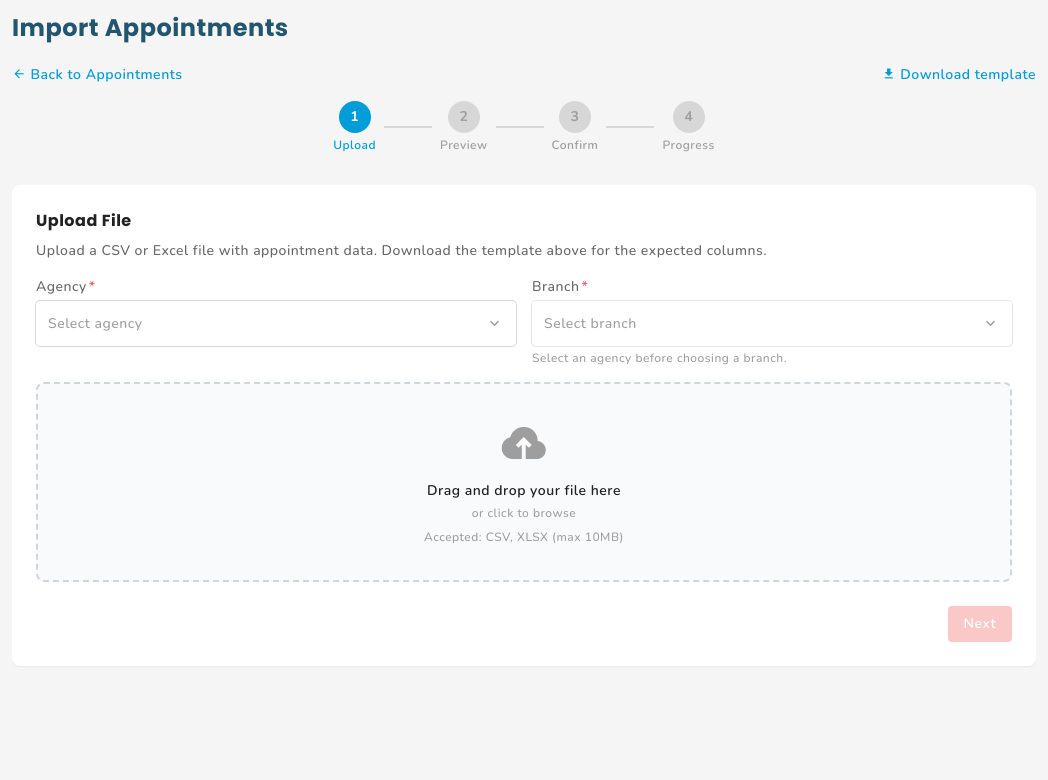
AppointmentImportPage › resets the branch selection when the agency changes
This screenshot has width=1048, height=780.
Click the button labelled "Select agency" at (95, 323), box x1=36 y1=301 x2=516 y2=346
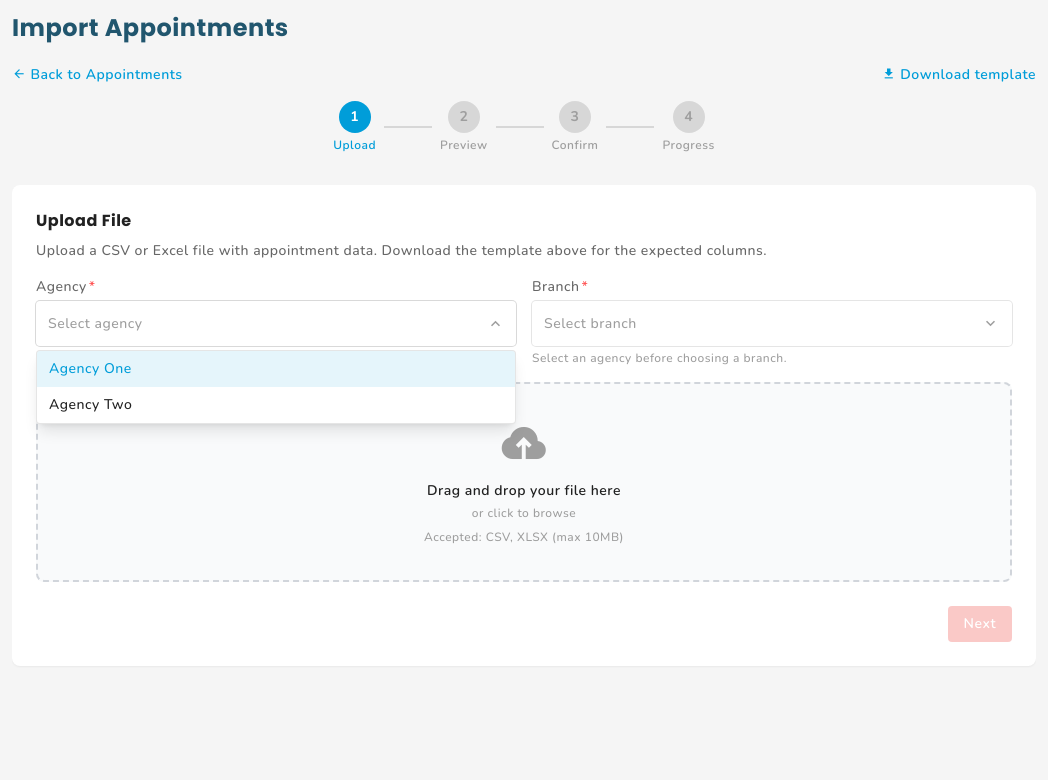
Click the option "Agency One" at (90, 368), box x1=37 y1=351 x2=515 y2=387
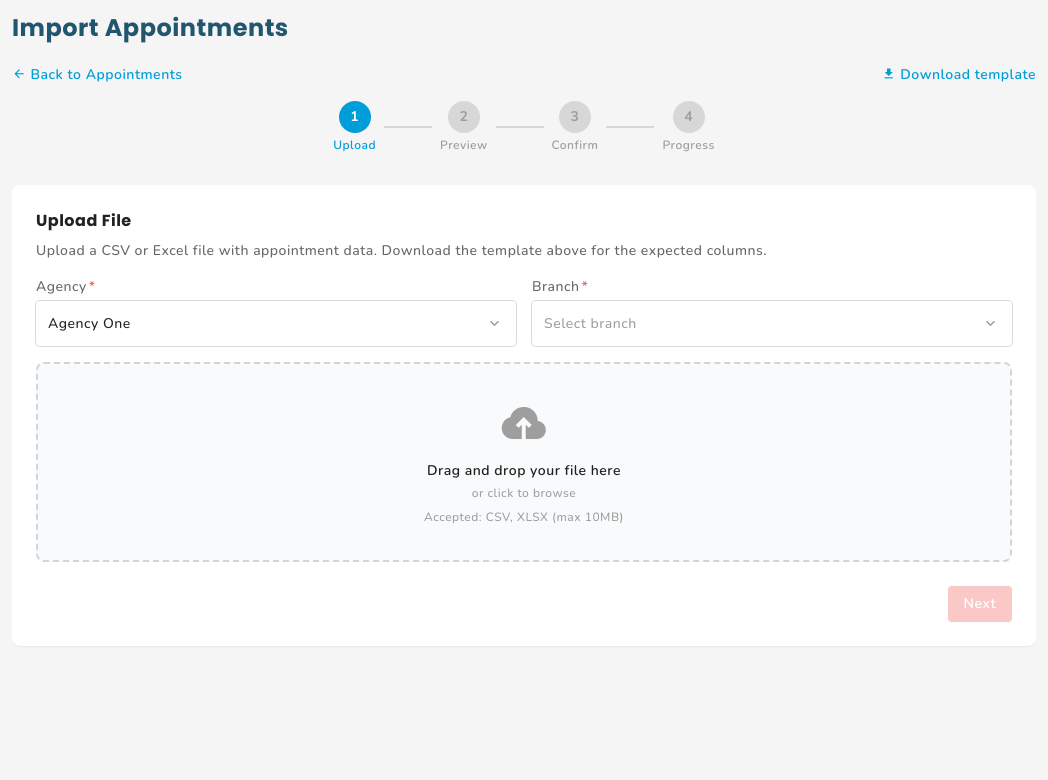
Click the button labelled "Select branch" at (590, 323), box x1=532 y1=301 x2=1012 y2=346
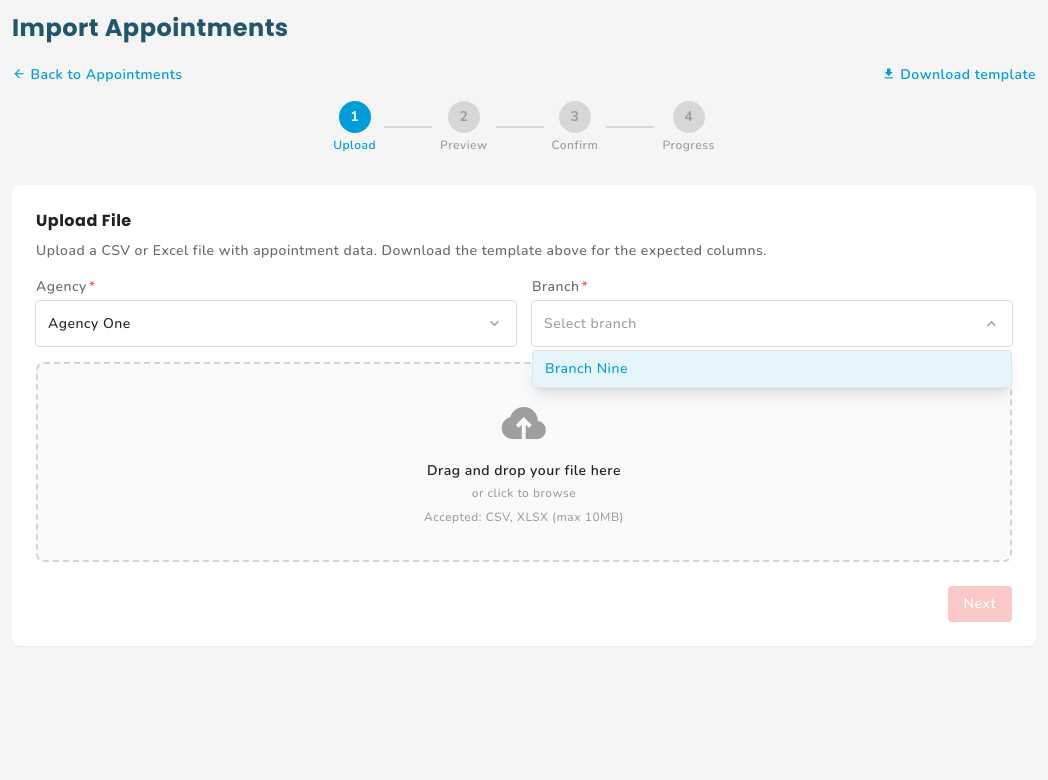
Click the option "Branch Nine" at (586, 368), box x1=533 y1=351 x2=1011 y2=387
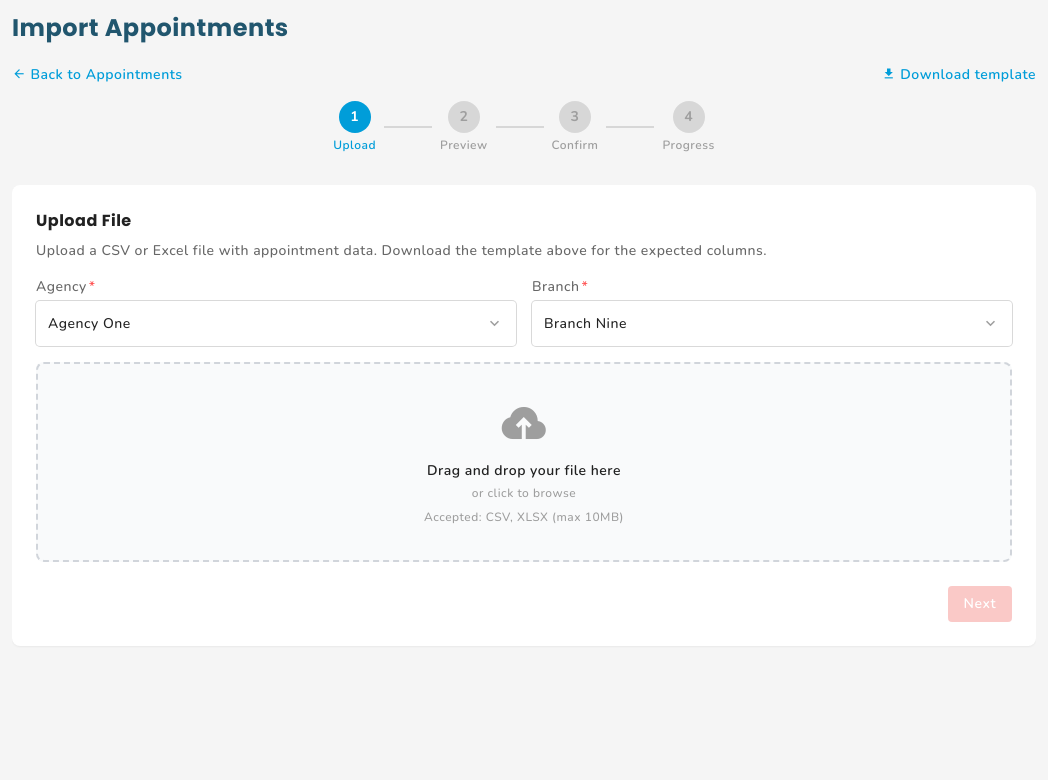
expect the button labelled "Branch Nine" is shown: met, box x1=532 y1=301 x2=1012 y2=346
Click the button labelled "Agency One" at (89, 323), box x1=36 y1=301 x2=516 y2=346
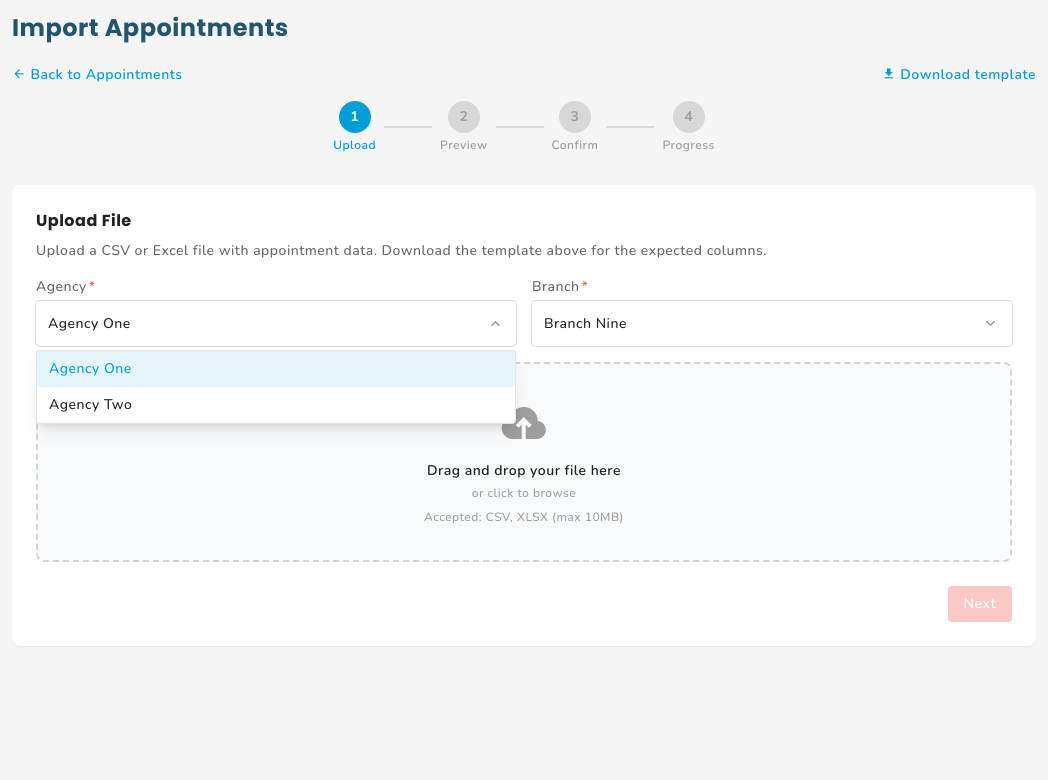
Click the option "Agency Two" at (91, 404), box x1=49 y1=395 x2=132 y2=414
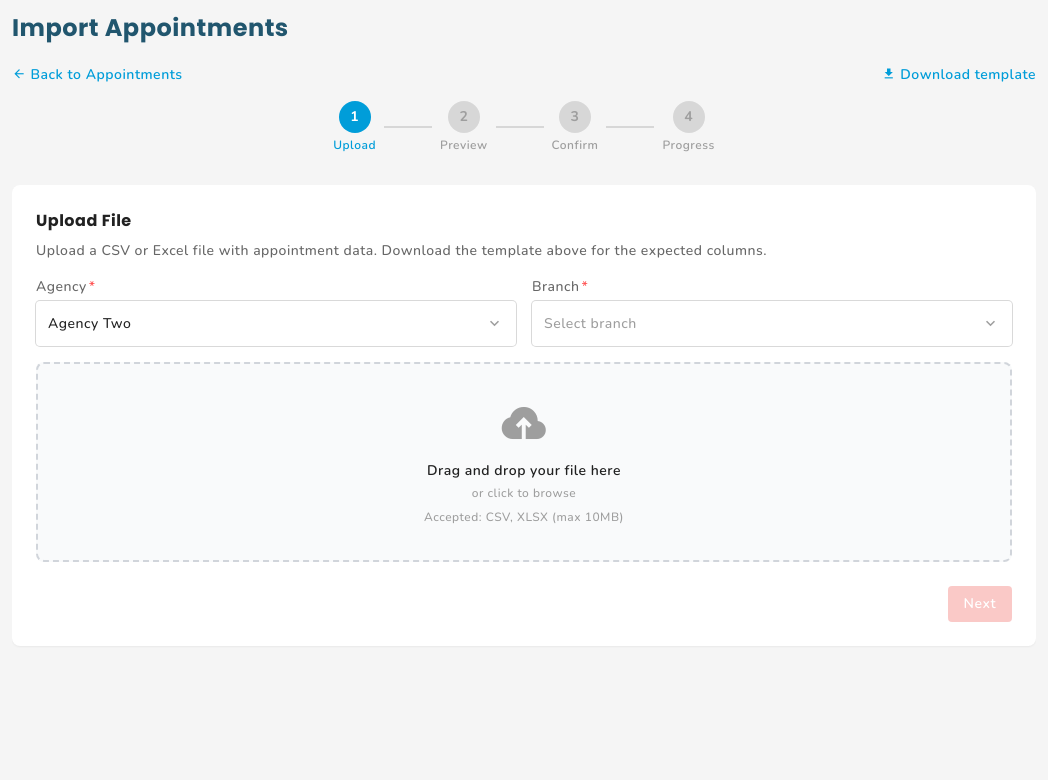
expect the button labelled "Select branch" no longer shows "Branch Nine": met, box x1=532 y1=301 x2=1012 y2=346
